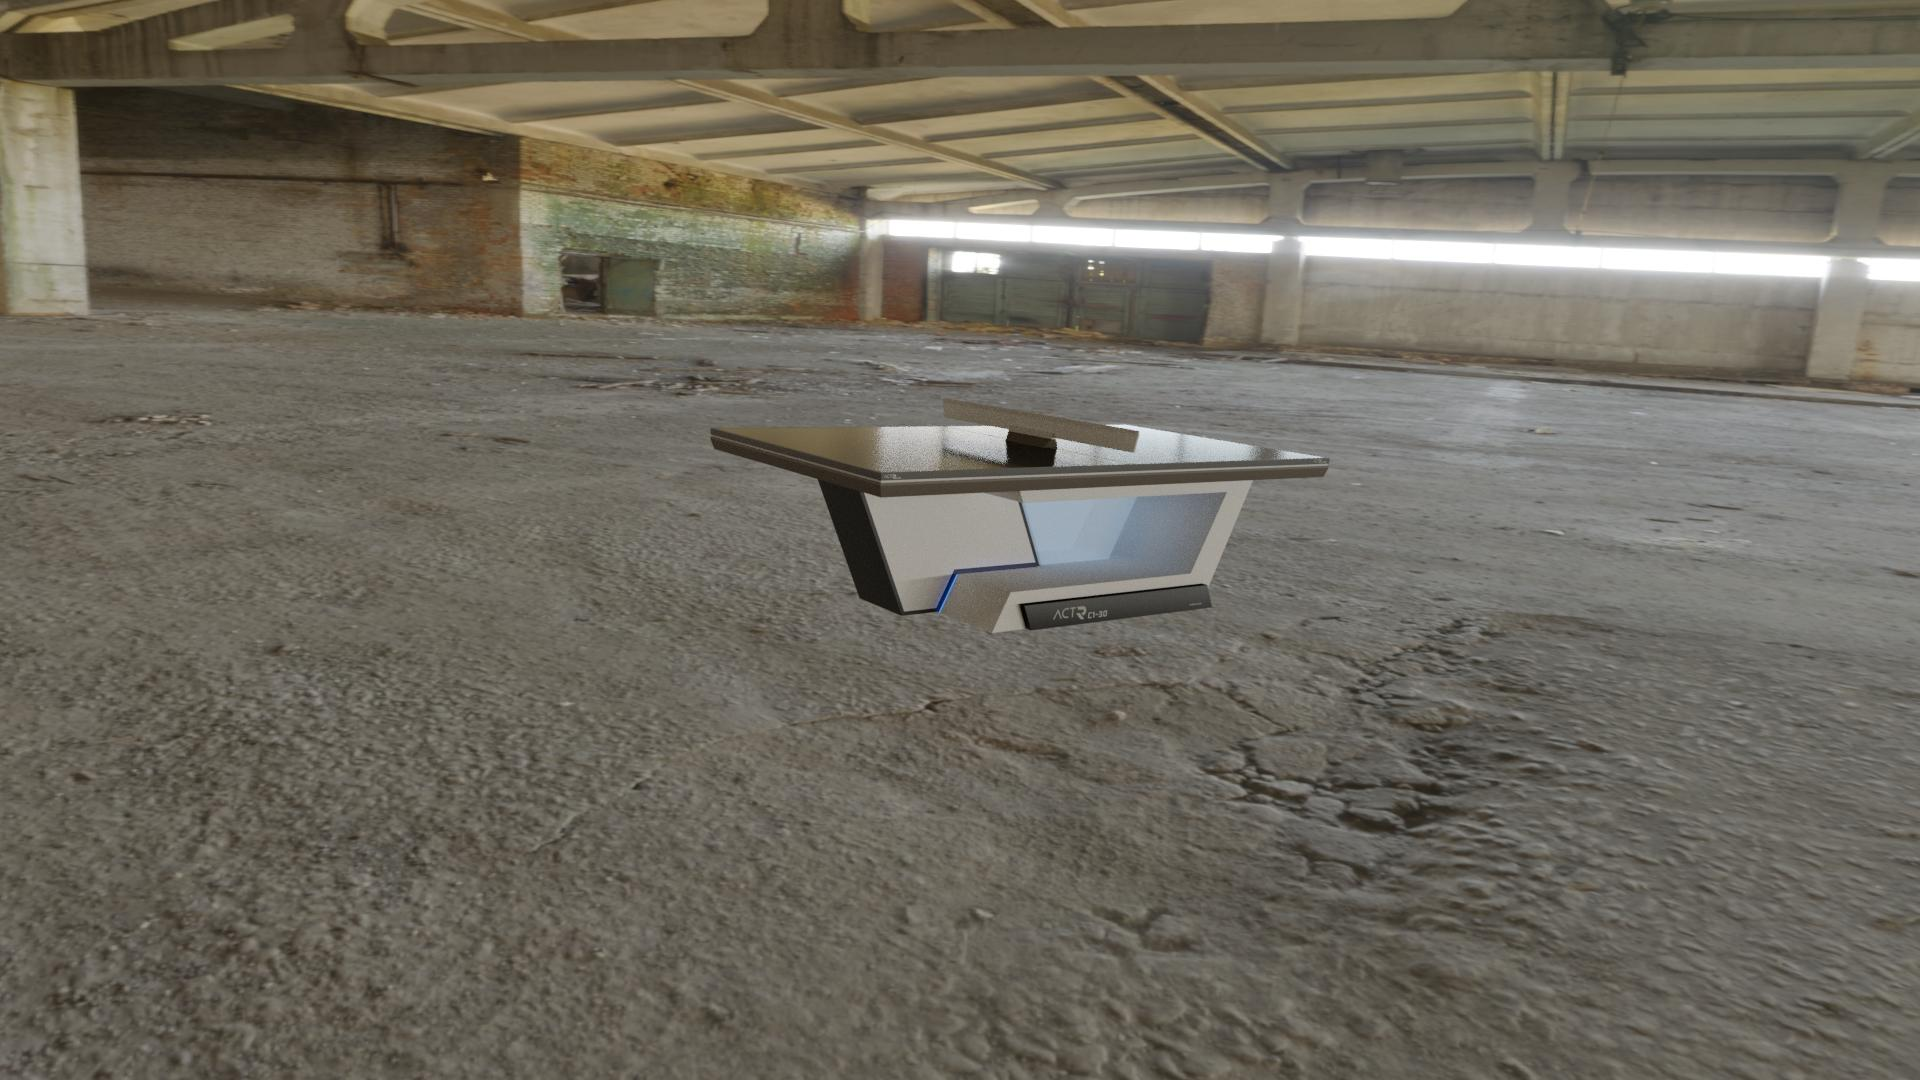table: (716, 425, 1324, 472)
